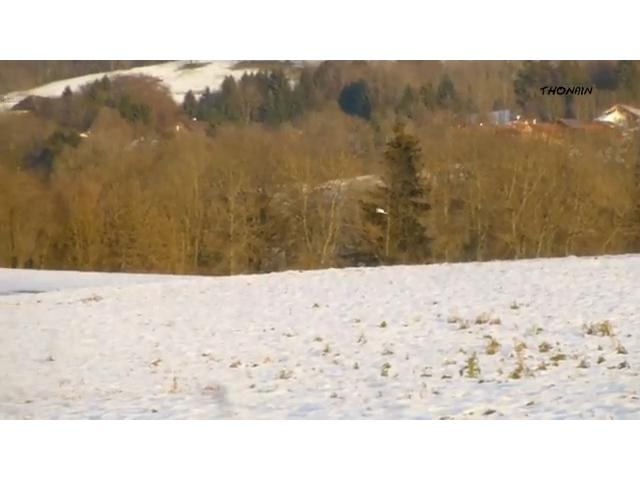Anti-Drone: (371, 199, 397, 219)
